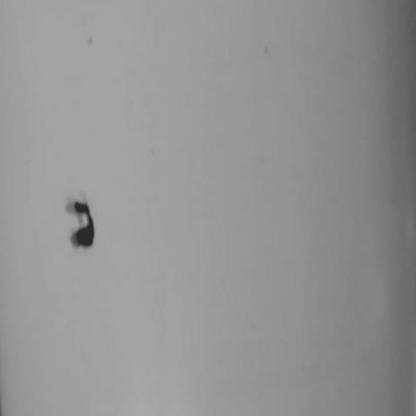kongdong: (52, 185, 107, 257)
